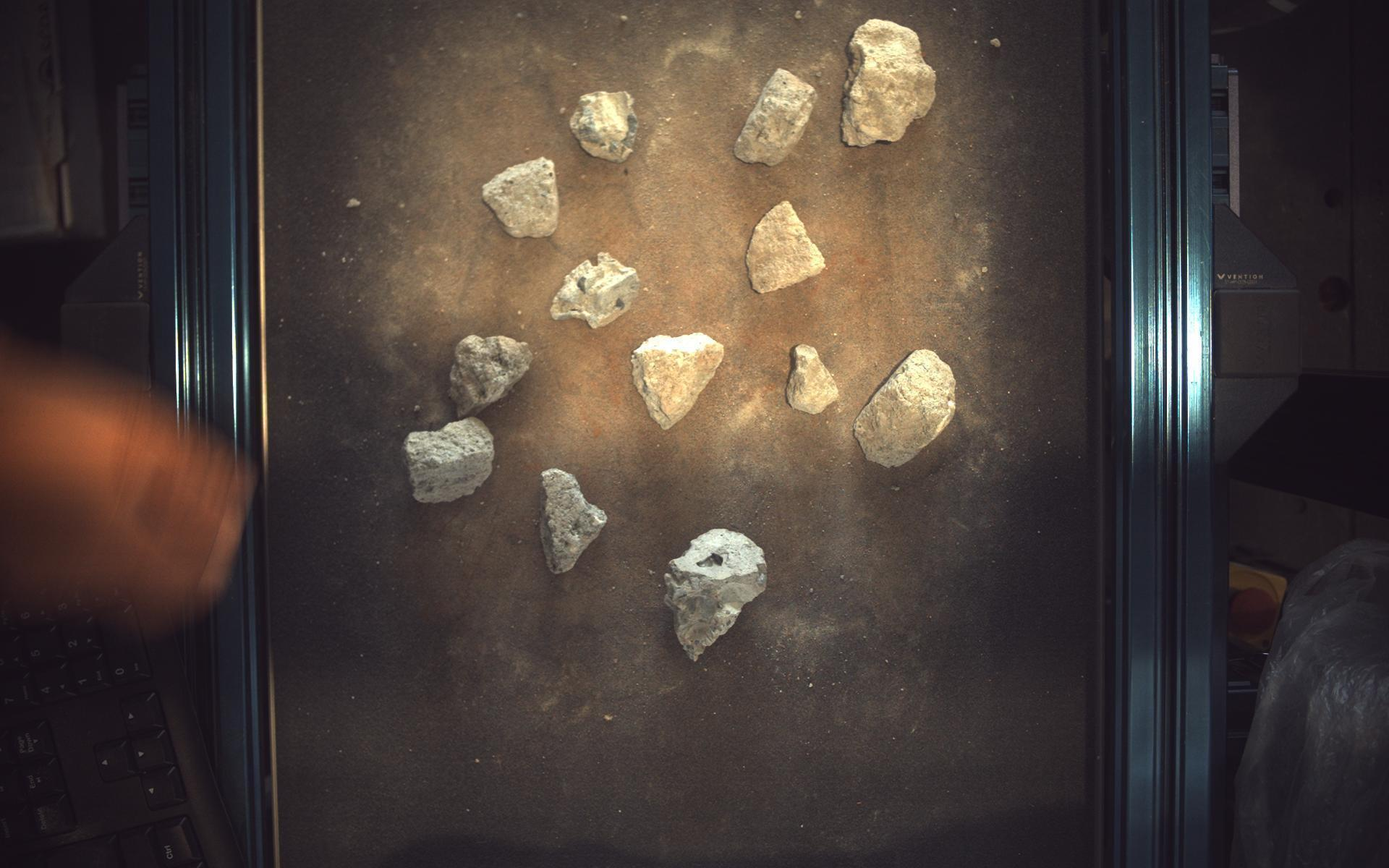concrete: (665, 529, 768, 662), (843, 17, 938, 145), (856, 349, 958, 467), (633, 333, 725, 430), (735, 67, 819, 165), (404, 417, 494, 503), (747, 200, 827, 293), (540, 469, 608, 574), (449, 334, 533, 417), (551, 251, 641, 328), (483, 157, 559, 237), (570, 90, 639, 161), (788, 344, 840, 414)
